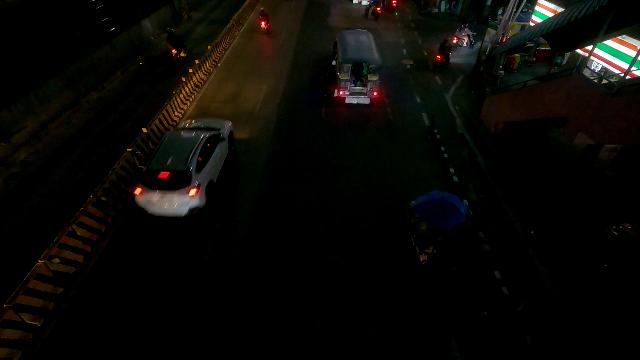car: (135, 115, 234, 219)
jeepney: (327, 27, 384, 110)
motorcycle: (166, 26, 191, 63), (453, 23, 476, 49), (434, 41, 453, 71), (363, 0, 382, 23), (258, 7, 272, 33)
